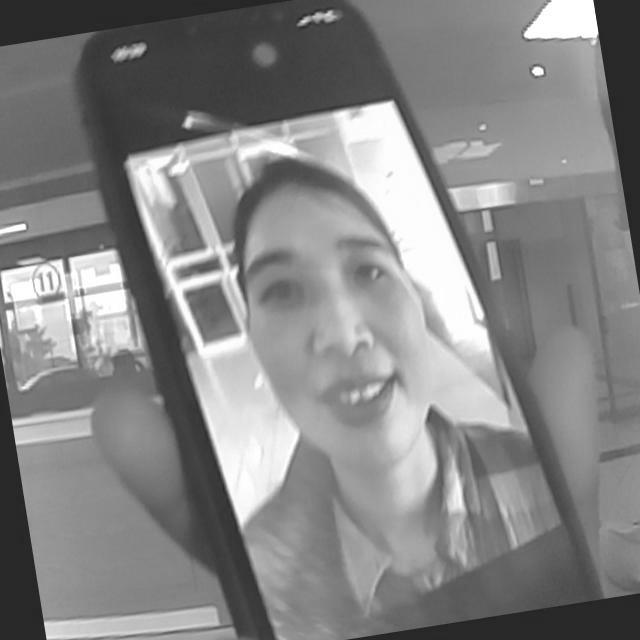fake: (67, 0, 611, 640)
